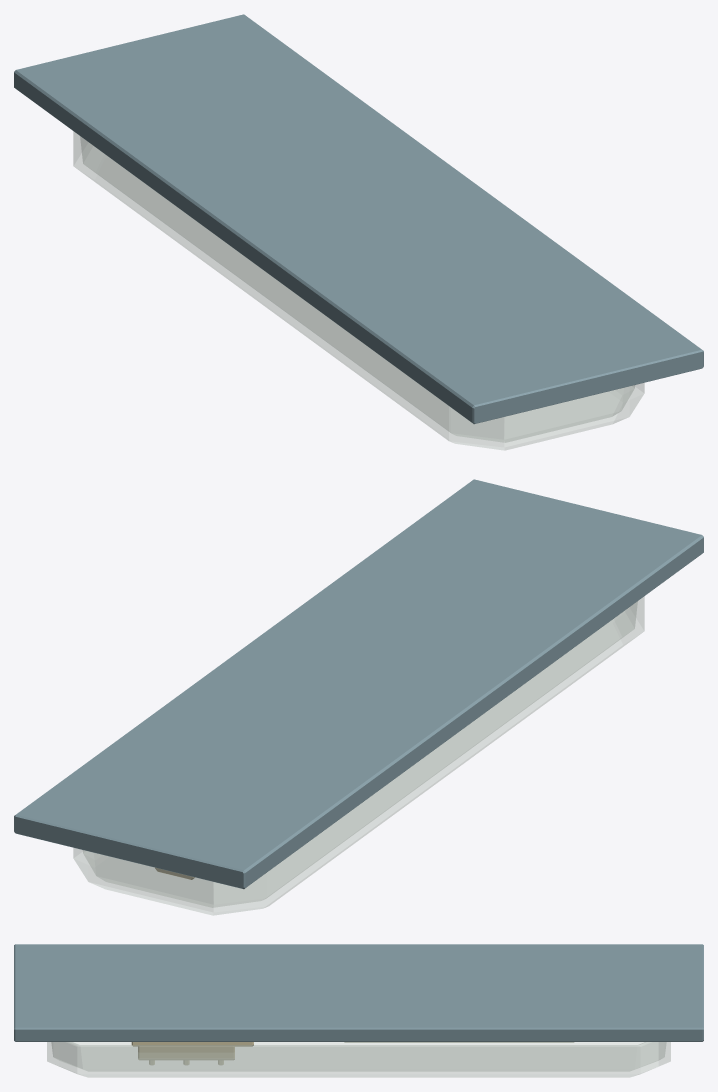
Rendered from toothbrush.glb.
3 renders of one model, top to bottom at view 1: azimuth 30°, elevation 25°; view 2: azimuth 150°, elevation 25°; view 3: azimuth 270°, elevation 25°, orthographic. The views are drawn at different scales.
Parts seen in each view (by area): view 1: toothbrush; view 2: toothbrush; view 3: toothbrush.
Part boxes in pixels (x1,y1,x2,y2): toothbrush: (14, 14, 703, 450); toothbrush: (14, 479, 703, 915); toothbrush: (14, 944, 703, 1077).
Bounding box in the file's own units: 0.064 × 0.0245 × 0.22.
